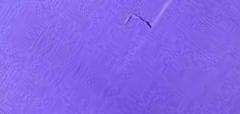snag: (124, 10, 156, 33)
